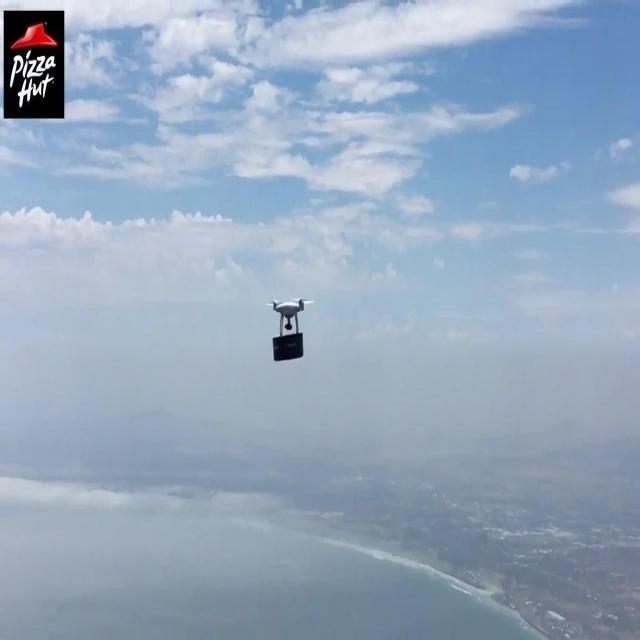drone: (268, 298, 314, 332)
